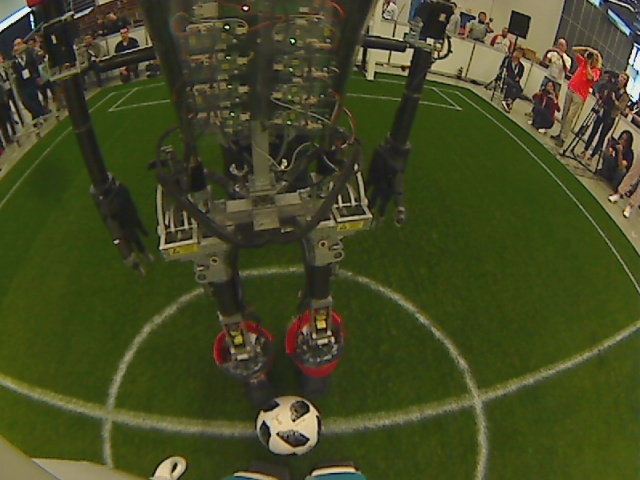ball: (251, 393, 325, 462)
